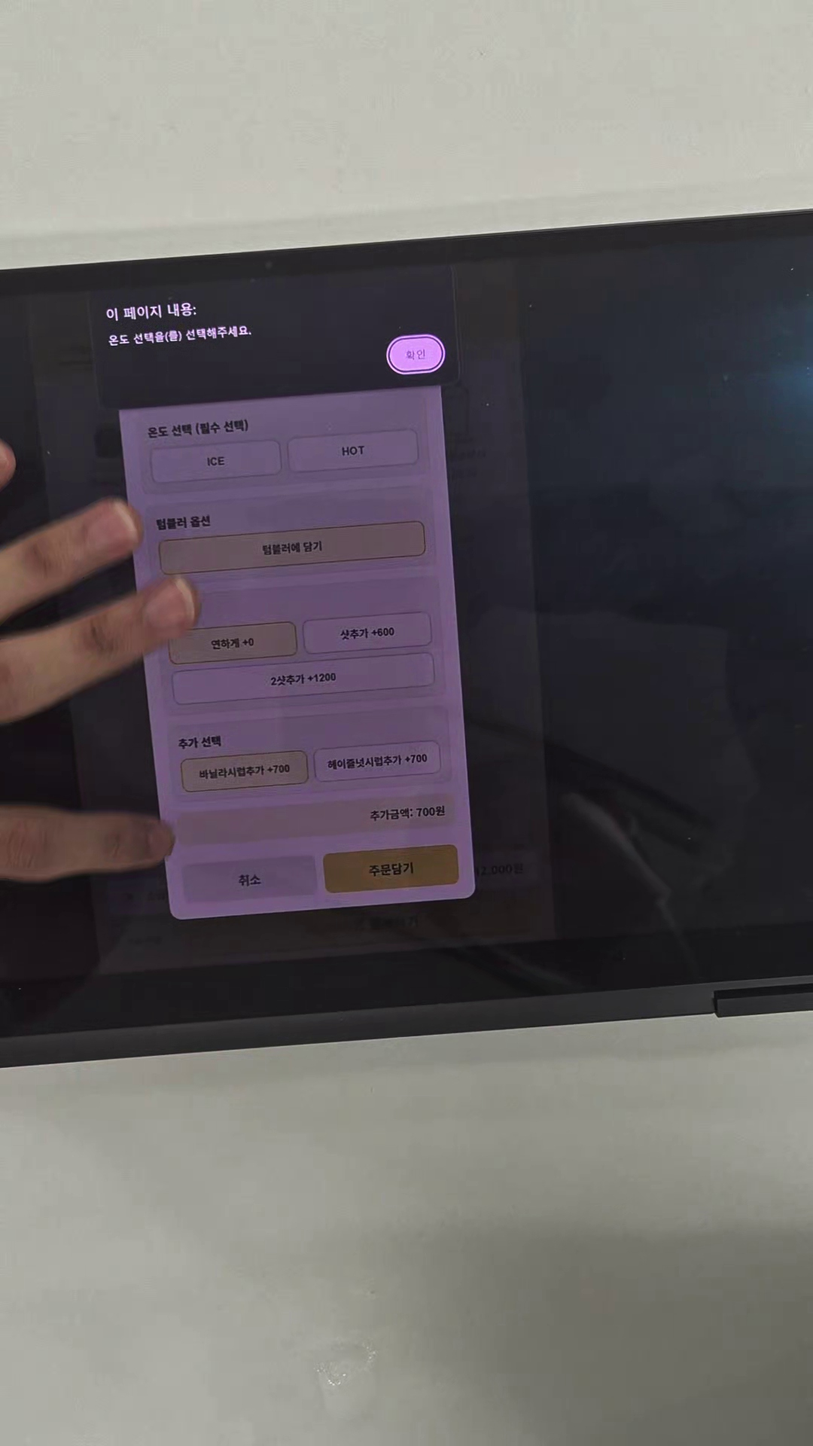option_button: (384, 333, 449, 376)
popup_modal: (86, 263, 464, 411)
